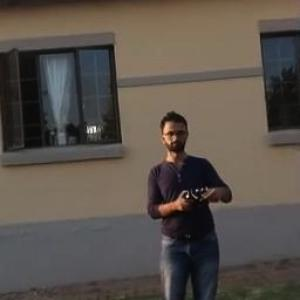follow: (143, 107, 241, 299)
